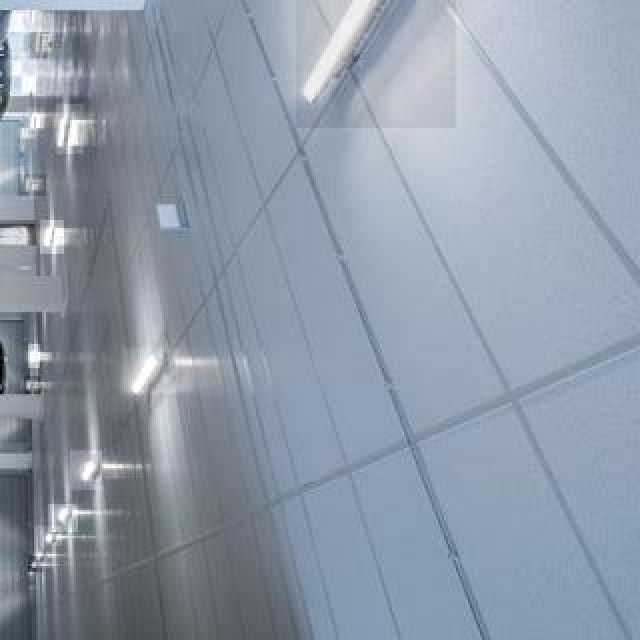fluorescent tube: (300, 0, 426, 114), (116, 336, 180, 404), (69, 433, 138, 487), (47, 87, 80, 173), (29, 211, 89, 254), (54, 92, 86, 172), (62, 453, 114, 482)
